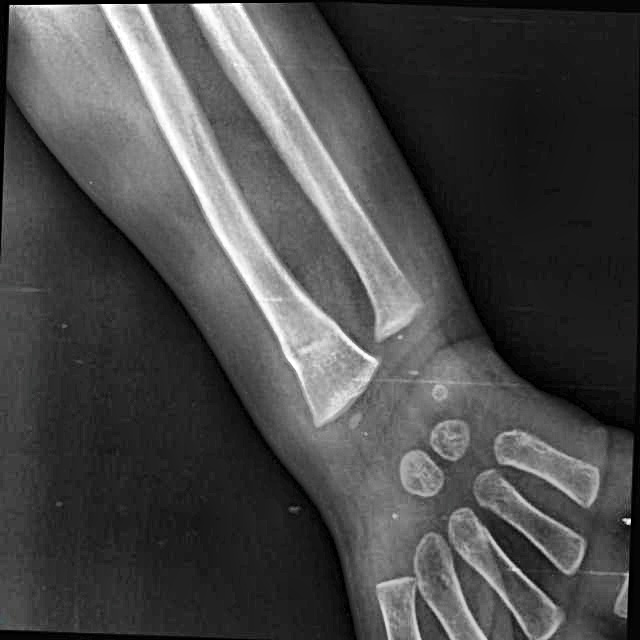Oblique Displaced: (273, 306, 351, 397)
